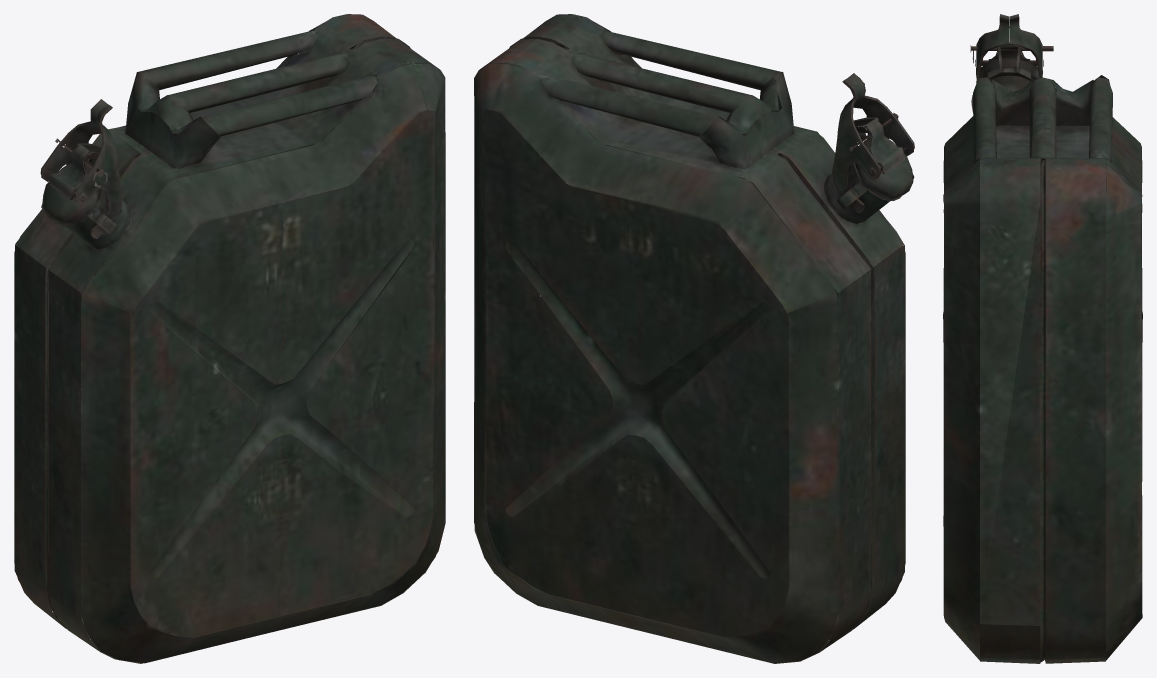
File: jerrycan.glb
The picture shows the model from 3 angles, left to right: view 1: azimuth 30°, elevation 25°; view 2: azimuth 150°, elevation 25°; view 3: azimuth 270°, elevation 25°; orthographic projection. The views are drawn at different scales.
Visible parts, largest first — view 1: metal_jerrycan_green_pin; view 2: metal_jerrycan_green_pin; view 3: metal_jerrycan_green_pin.
Boxes of the visible parts, x1=… form: metal_jerrycan_green_pin: x1=14, y1=14, x2=445, y2=663; metal_jerrycan_green_pin: x1=474, y1=14, x2=914, y2=663; metal_jerrycan_green_pin: x1=943, y1=14, x2=1142, y2=663.
Bounding box in the file's own units: 0.3605 × 0.5 × 0.1724.
Materials: 1 (1 with a texture image).
